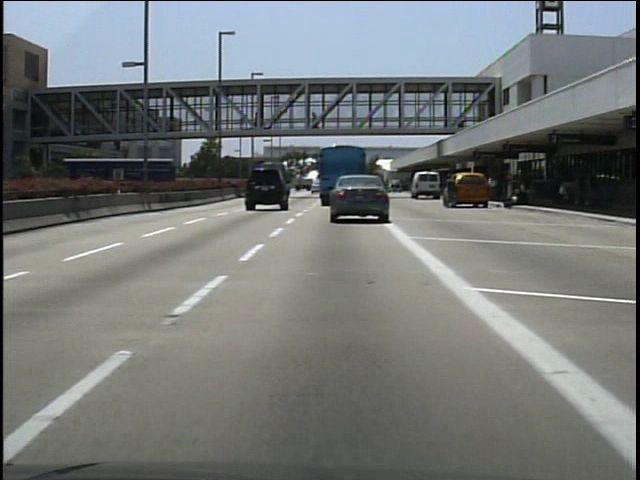person: (443, 176, 461, 215), (308, 111, 322, 137), (248, 108, 263, 132)
